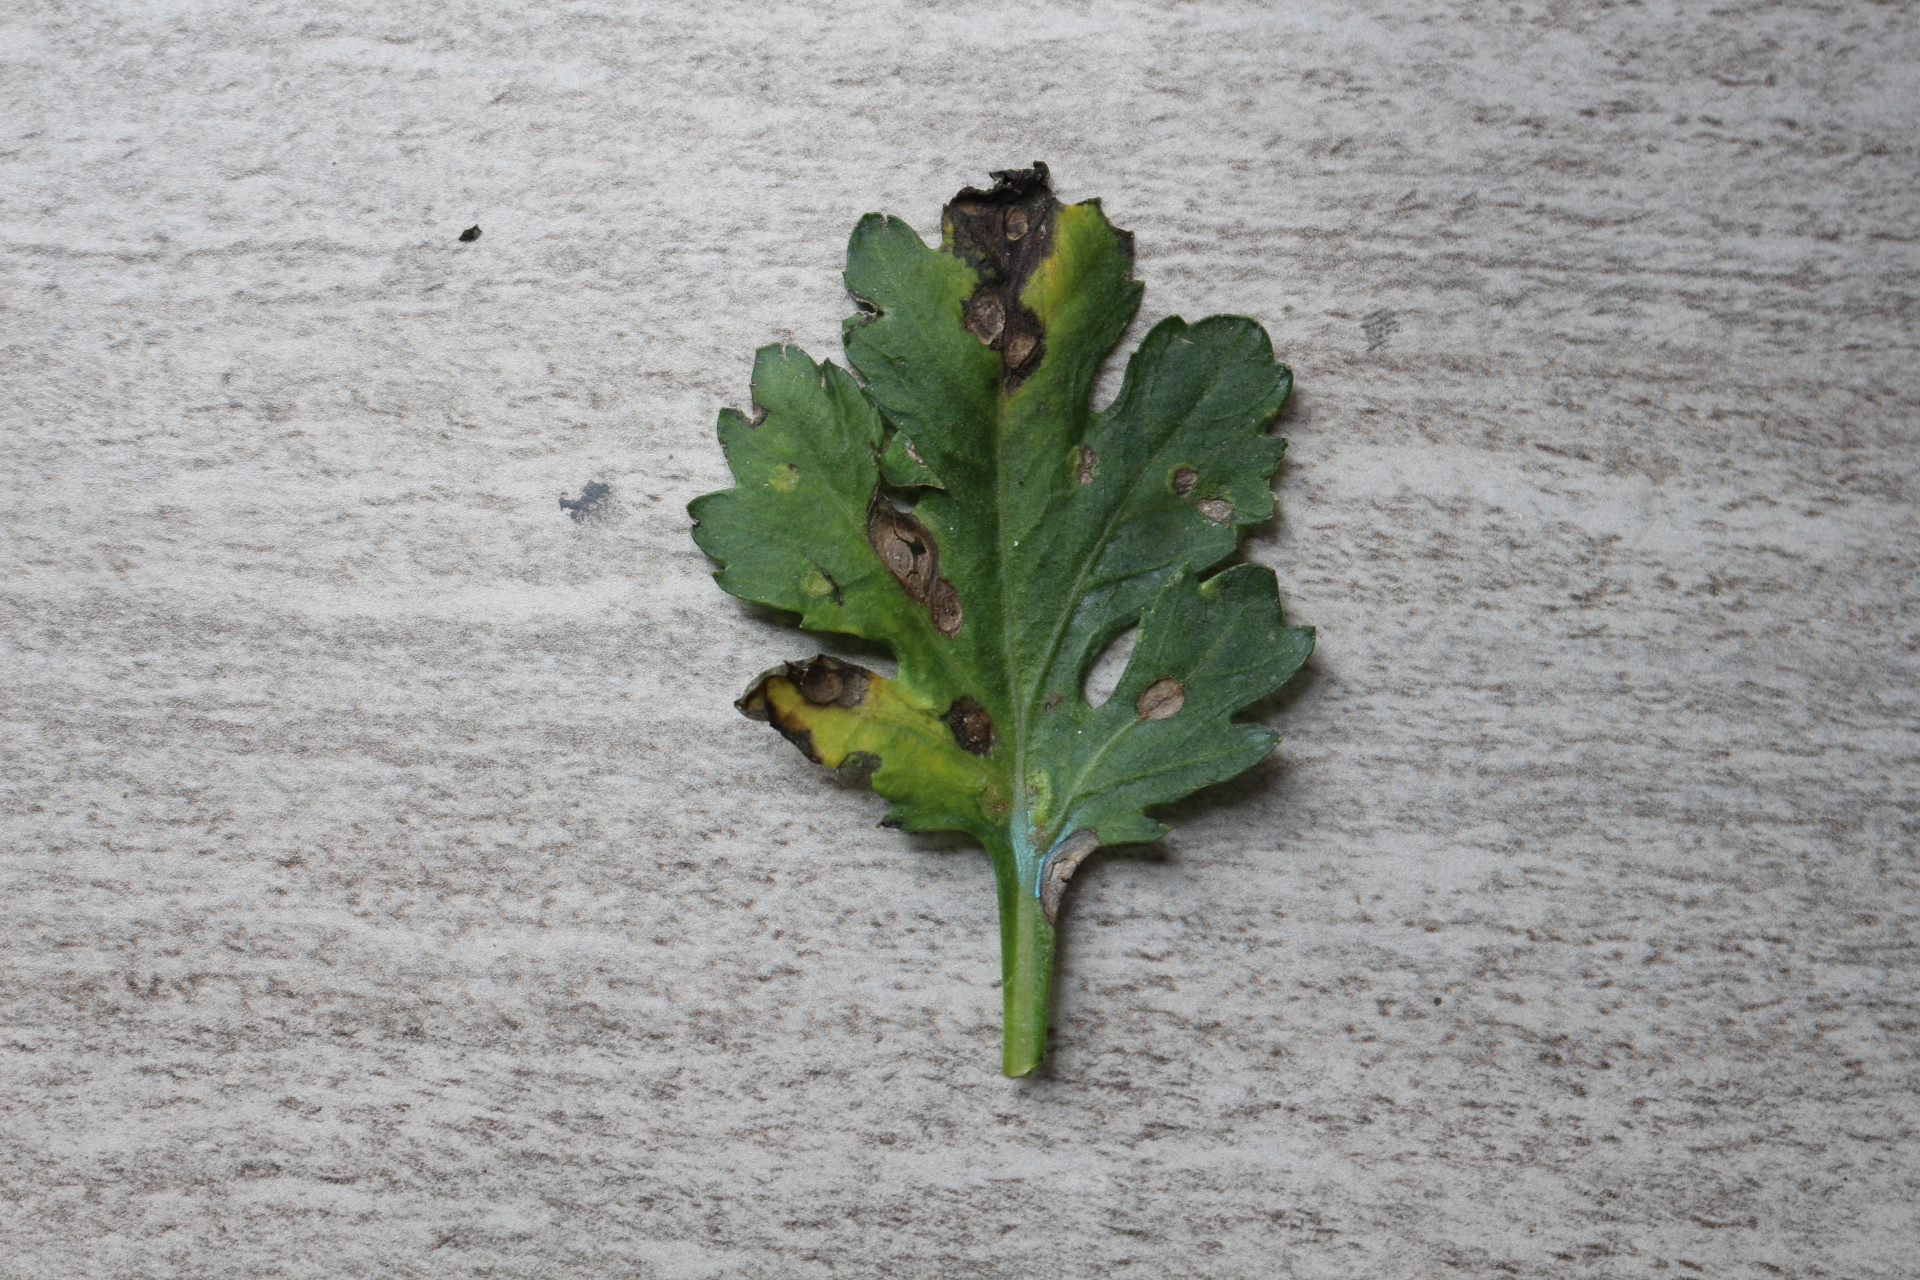namden: (869, 496, 970, 629), (950, 281, 1066, 387), (1129, 674, 1191, 724), (806, 661, 866, 707), (946, 706, 997, 756), (1066, 444, 1106, 491), (1193, 494, 1241, 521), (1167, 467, 1199, 503)
namsung: (793, 566, 839, 606), (764, 459, 806, 496)
